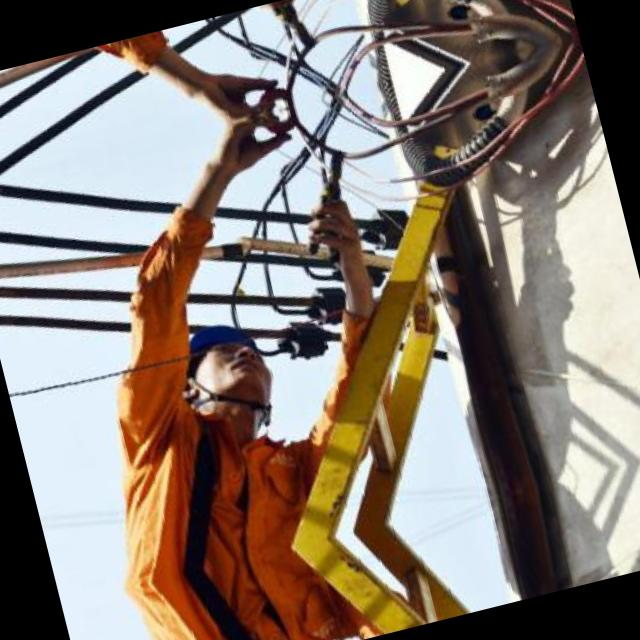helmet: (166, 298, 296, 457)
